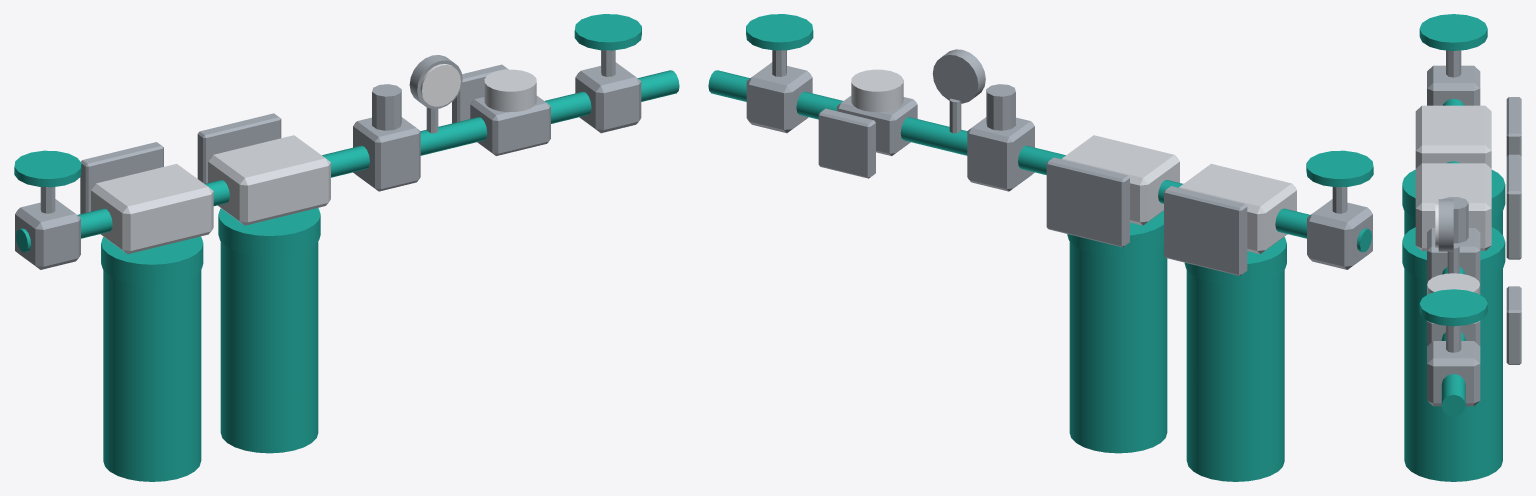
File: water-filter-station.glb
3 views of the same model, side by side, from view 1: azimuth 30°, elevation 25°; view 2: azimuth 150°, elevation 25°; view 3: azimuth 270°, elevation 25° (orthographic).
Parts seen in each view (by area): view 1: water-filter-station; view 2: water-filter-station; view 3: water-filter-station.
Boxes of the visible parts, bbox=[...] form: water-filter-station: bbox=[14, 14, 679, 481]; water-filter-station: bbox=[708, 14, 1373, 481]; water-filter-station: bbox=[1402, 14, 1521, 481].
Bounding box in the file's own units: 1 × 0.495 × 0.158.
